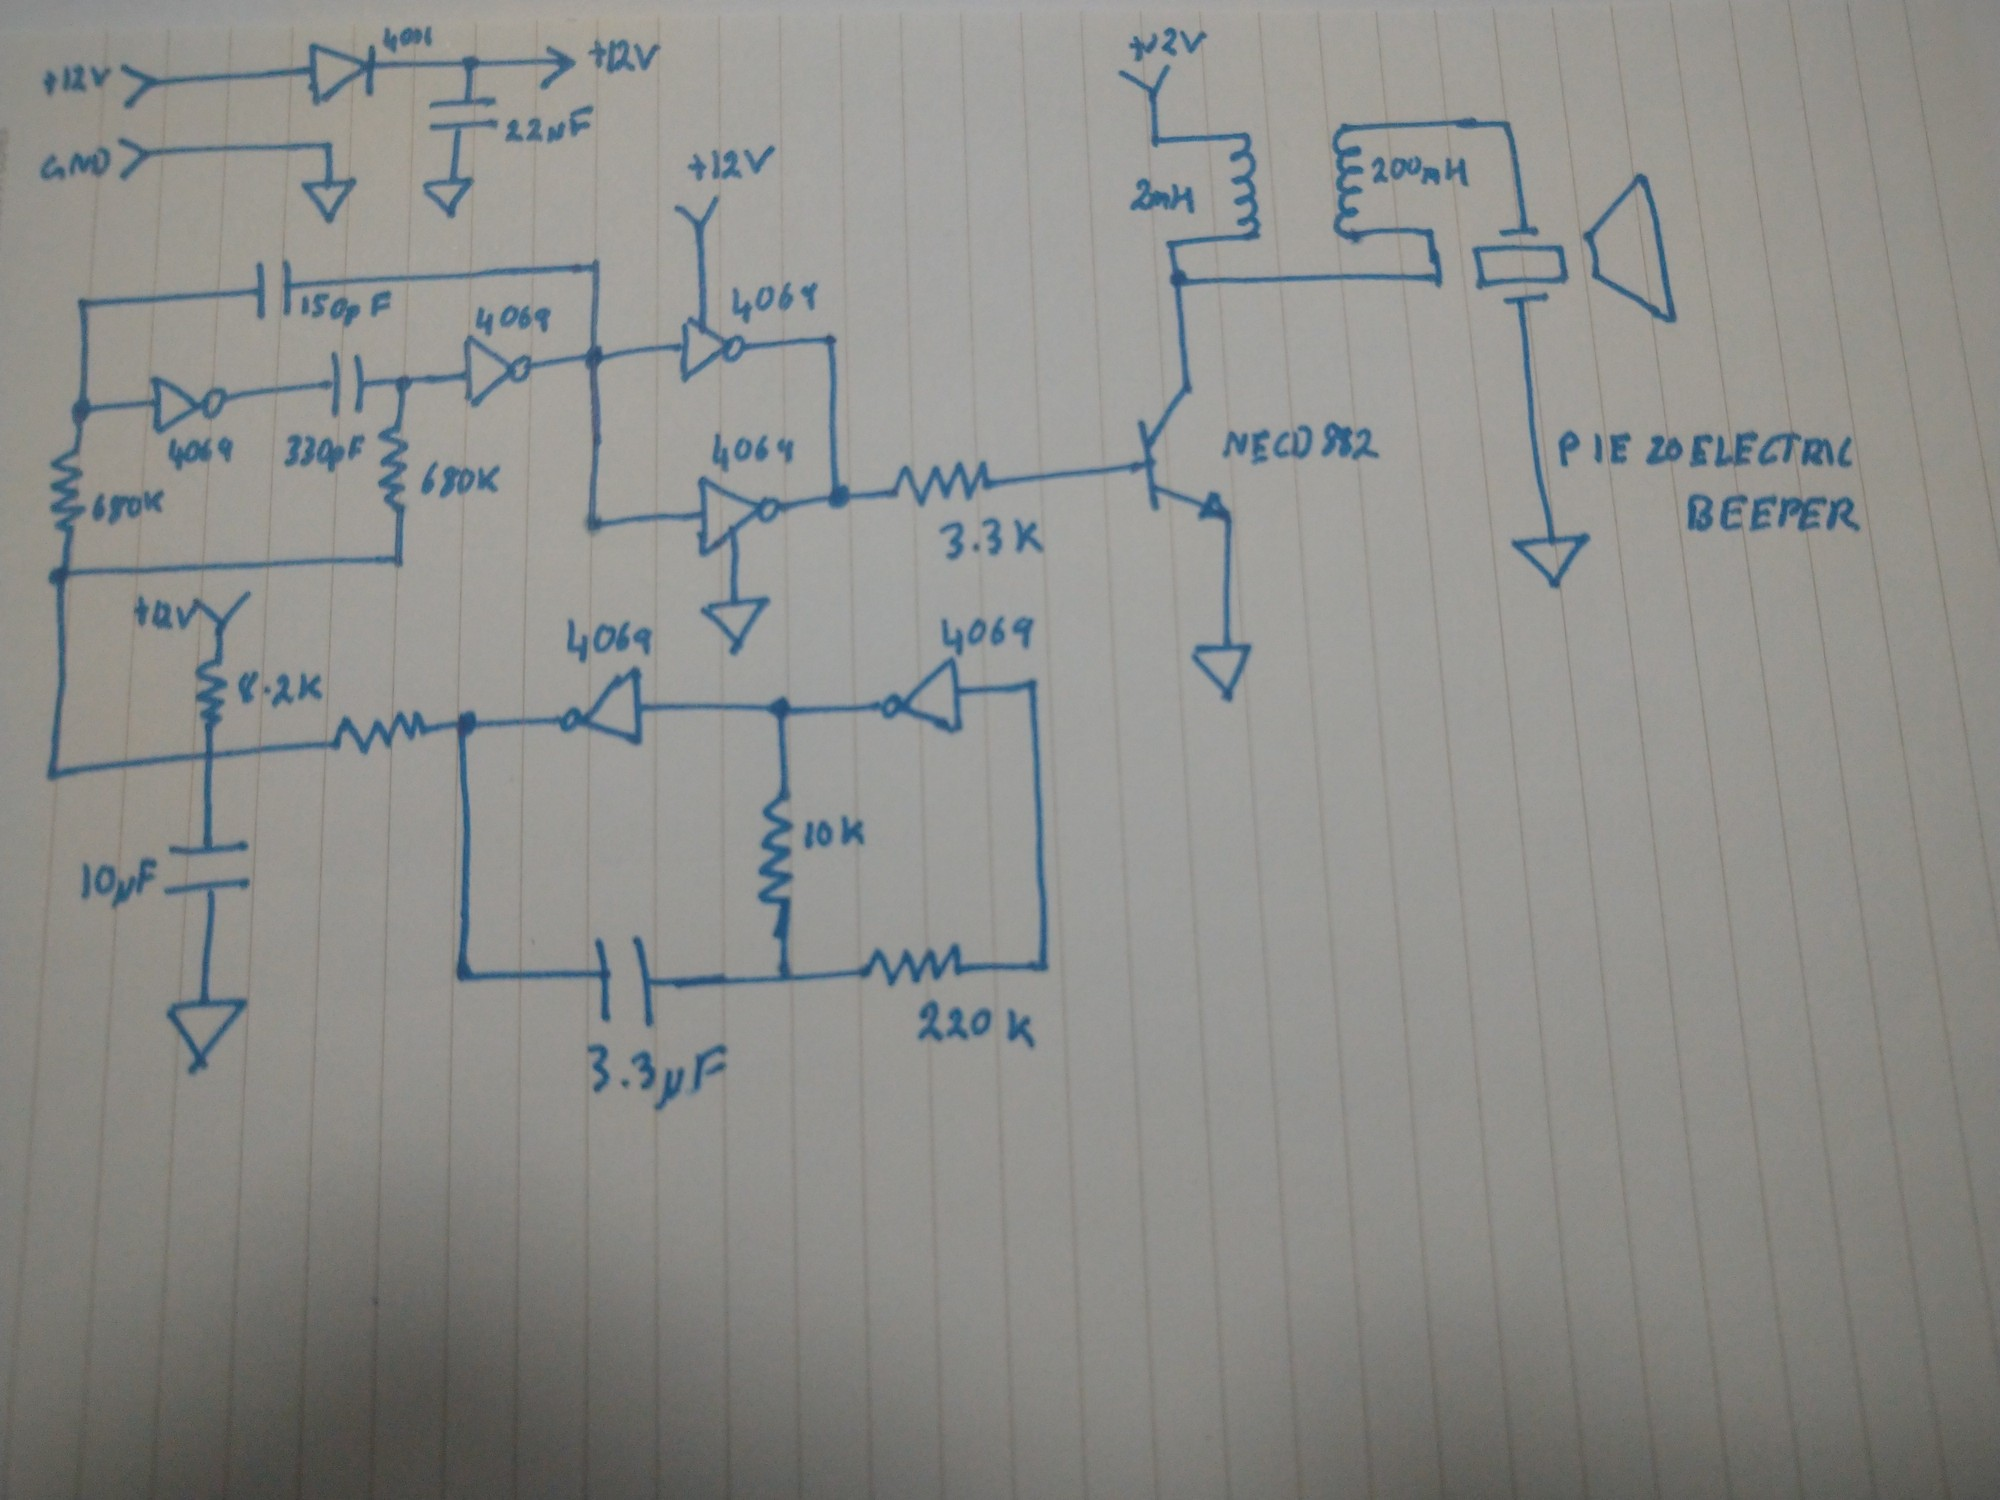capacitor.unpolarized: (589, 928, 660, 1037), (161, 837, 255, 901), (424, 91, 502, 136), (323, 348, 369, 419), (250, 257, 296, 323)
crossover: (192, 737, 231, 770)
diode: (306, 36, 380, 109)
gnd: (156, 988, 255, 1079), (1509, 528, 1595, 591), (698, 592, 776, 659), (1187, 637, 1258, 704), (298, 173, 357, 227), (419, 173, 480, 221)
inductor: (1328, 120, 1367, 247), (1227, 128, 1265, 244)
junction: (761, 684, 808, 730), (573, 339, 619, 380), (446, 703, 490, 744), (43, 555, 83, 597), (572, 506, 616, 544), (820, 477, 860, 517), (36, 756, 76, 796), (1027, 944, 1065, 985), (63, 391, 101, 432), (765, 956, 805, 994), (444, 956, 482, 993), (1017, 666, 1055, 703), (383, 544, 416, 581), (816, 321, 850, 356), (389, 362, 419, 399), (576, 252, 609, 282), (1424, 266, 1454, 296), (1162, 265, 1195, 291), (1157, 230, 1191, 257), (1493, 110, 1523, 139), (452, 47, 483, 74), (1143, 124, 1172, 151), (1416, 217, 1443, 243), (68, 290, 93, 315), (317, 136, 342, 158)
not: (877, 652, 973, 739), (553, 663, 647, 748), (693, 473, 784, 559), (457, 332, 540, 416), (669, 314, 750, 388), (146, 369, 231, 435)
resistor: (846, 937, 973, 989), (754, 782, 798, 917), (880, 459, 1002, 507), (324, 707, 436, 756), (373, 416, 417, 520), (44, 436, 85, 539), (191, 644, 228, 734)
speaker: (1472, 170, 1682, 332)
terminal: (195, 583, 257, 638), (113, 57, 164, 117), (1110, 58, 1183, 95), (535, 36, 578, 93), (669, 192, 728, 232), (110, 131, 154, 183)
text: (1554, 427, 1857, 474), (584, 1041, 731, 1117), (1682, 488, 1865, 537), (1217, 421, 1383, 463), (910, 999, 1036, 1053), (935, 514, 1050, 561), (74, 852, 162, 911), (561, 614, 657, 663), (501, 102, 598, 148), (728, 279, 820, 326), (707, 429, 800, 474), (939, 613, 1038, 655), (280, 429, 372, 474), (233, 666, 328, 711), (416, 455, 506, 501), (298, 288, 397, 329), (683, 143, 780, 183), (469, 299, 557, 339), (1124, 22, 1217, 58), (587, 35, 666, 77), (36, 143, 113, 186), (1372, 151, 1469, 184), (88, 487, 170, 526), (798, 811, 874, 852), (164, 433, 236, 473), (35, 61, 113, 98), (1124, 176, 1198, 214), (131, 594, 197, 635), (376, 20, 436, 54)
transistor: (1123, 380, 1239, 534)
